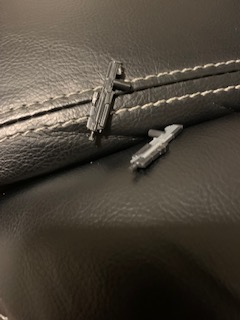rifle: (80, 60, 134, 143), (128, 124, 184, 174)
